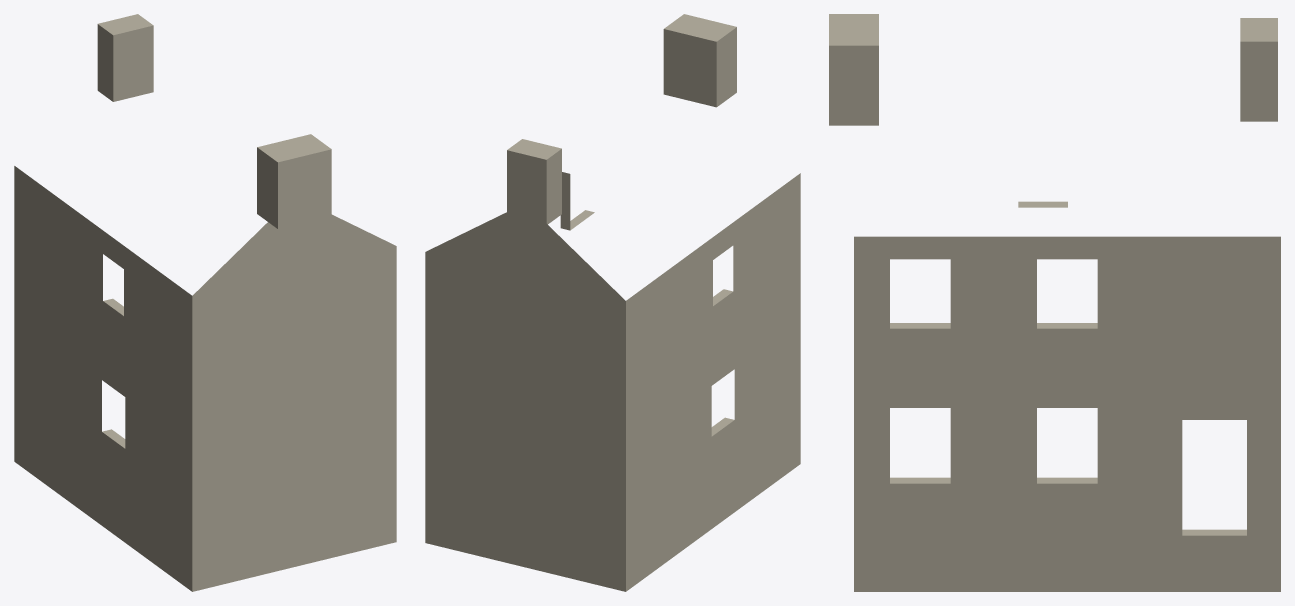
The model's file is SM_Bld_065_Render.glb.
3 views of the same model, side by side, from view 1: azimuth 30°, elevation 25°; view 2: azimuth 150°, elevation 25°; view 3: azimuth 270°, elevation 25° (orthographic). The views are drawn at different scales.
Parts seen in each view (by area): view 1: SM_Bld_065_Render; view 2: SM_Bld_065_Render; view 3: SM_Bld_065_Render.
Boxes of the visible parts, x1,y1,x2,y2 form: SM_Bld_065_Render: (14, 14, 396, 591); SM_Bld_065_Render: (425, 14, 800, 591); SM_Bld_065_Render: (829, 14, 1280, 591).
Bounding box in the file's own units: 4.54 × 8.91 × 7.26.
